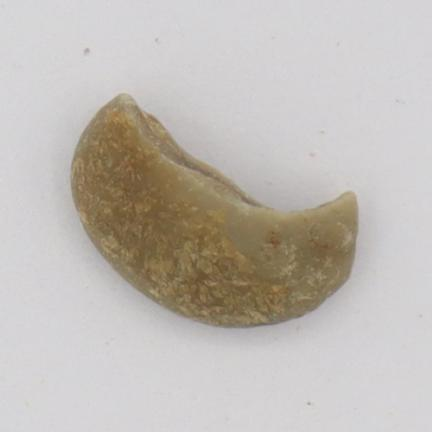cut: (72, 94, 358, 327)
